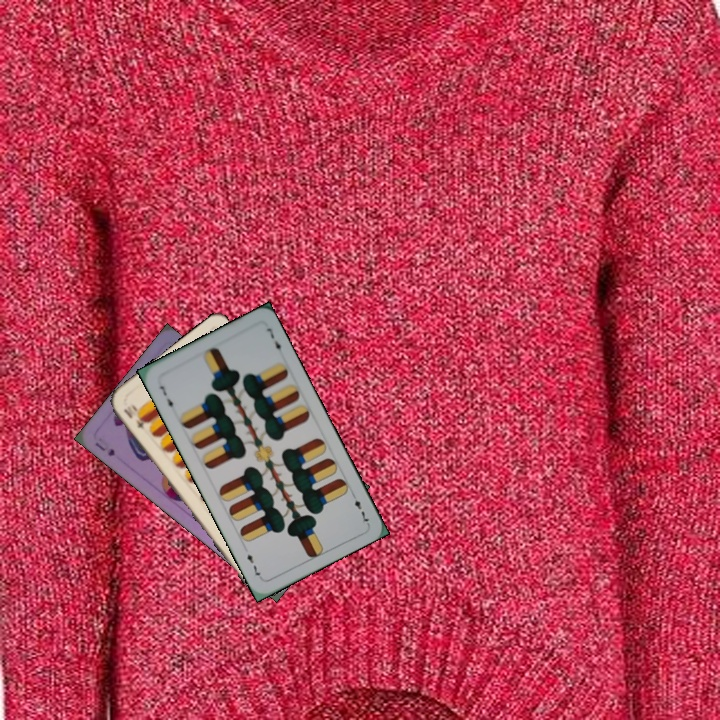E10: (119, 404, 148, 431)
E7: (347, 489, 372, 526), (156, 381, 176, 414)
SU: (91, 438, 118, 459)
